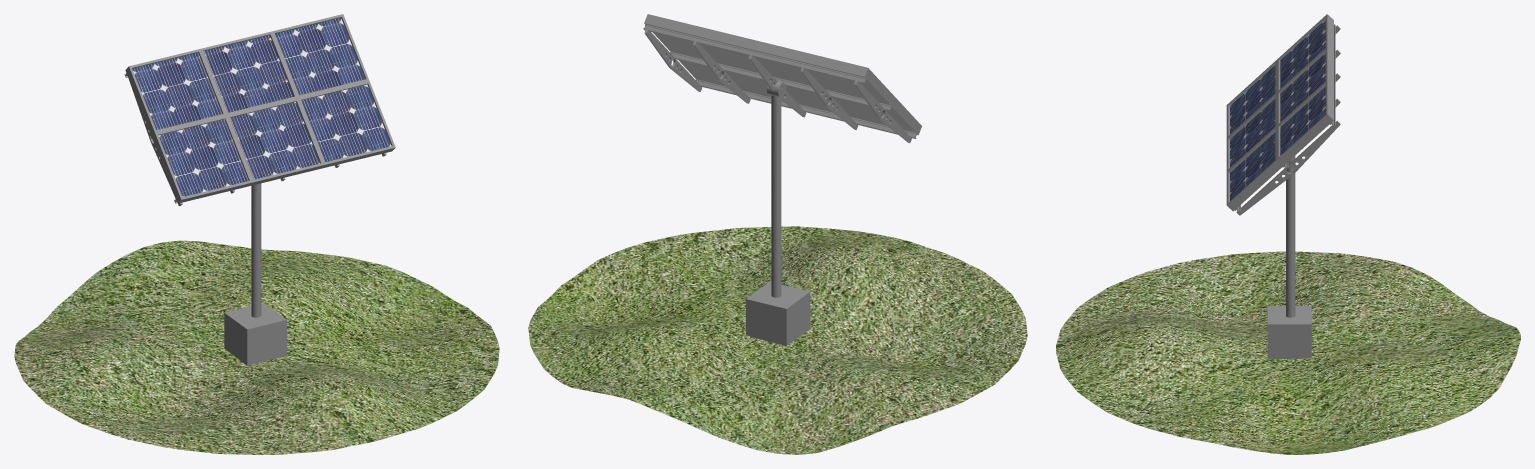
File: Solarpanel.fbx
3 renders of one model, left to right at view 1: azimuth 30°, elevation 25°; view 2: azimuth 150°, elevation 25°; view 3: azimuth 270°, elevation 25°, orthographic. The views are drawn at different scales.
Visible parts, largest first — view 1: Circle001, Panel, Box002, Cylinder002; view 2: Circle001, Panel, Box002, Cylinder002; view 3: Circle001, Panel, Box002, Cylinder002.
Part boxes in pixels (bbox=[...]): Circle001: bbox=[14, 240, 499, 454]; Panel: bbox=[124, 14, 395, 206]; Box002: bbox=[224, 303, 286, 365]; Cylinder002: bbox=[251, 183, 261, 317]; Circle001: bbox=[528, 226, 1027, 454]; Panel: bbox=[643, 14, 921, 142]; Box002: bbox=[746, 282, 810, 345]; Cylinder002: bbox=[771, 95, 781, 297]; Circle001: bbox=[1056, 251, 1520, 454]; Panel: bbox=[1226, 14, 1340, 215]; Box002: bbox=[1267, 306, 1311, 358]; Cylinder002: bbox=[1286, 156, 1295, 317].
Size of the model in its own units: 984 by 703 by 980.
3 materials, 2 textured.
